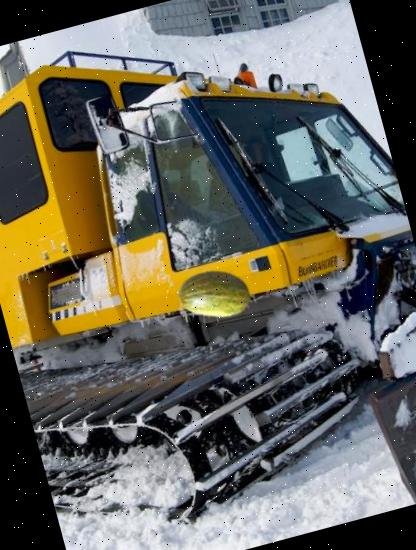Melon: (170, 249, 259, 338)
